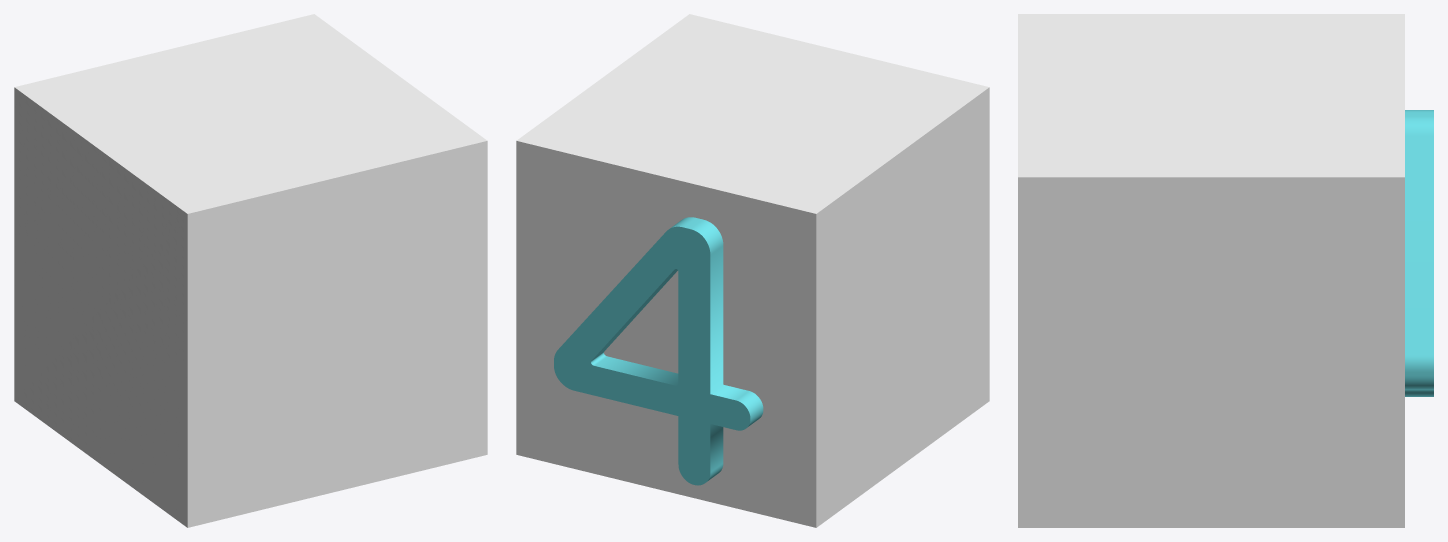
The model's file is stage4.obj.
The picture shows the model from 3 angles, left to right: view 1: azimuth 30°, elevation 25°; view 2: azimuth 150°, elevation 25°; view 3: azimuth 270°, elevation 25°; orthographic projection. The views are drawn at different scales.
Parts seen in each view (by area): view 1: 立方体; view 2: 立方体, テキスト; view 3: 立方体, テキスト.
Boxes of the visible parts, x1,y1,x2,y2 form: 立方体: (14,14,487,527); 立方体: (516,14,989,527); テキスト: (554,217,763,485); 立方体: (1018,14,1404,527); テキスト: (1405,110,1433,396).
Bounding box in the file's own units: 2 × 2 × 2.15.
1 material, 1 textured.
